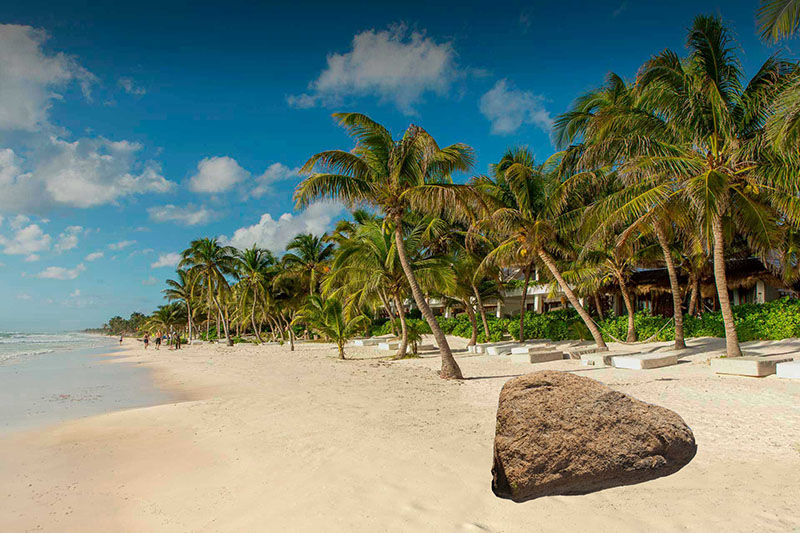Rocks: (483, 366, 699, 507)
